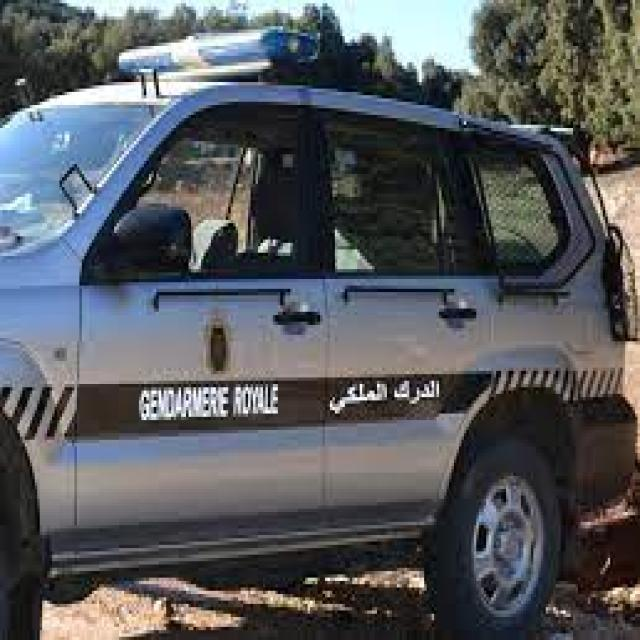gendarme car: (2, 21, 640, 613)
